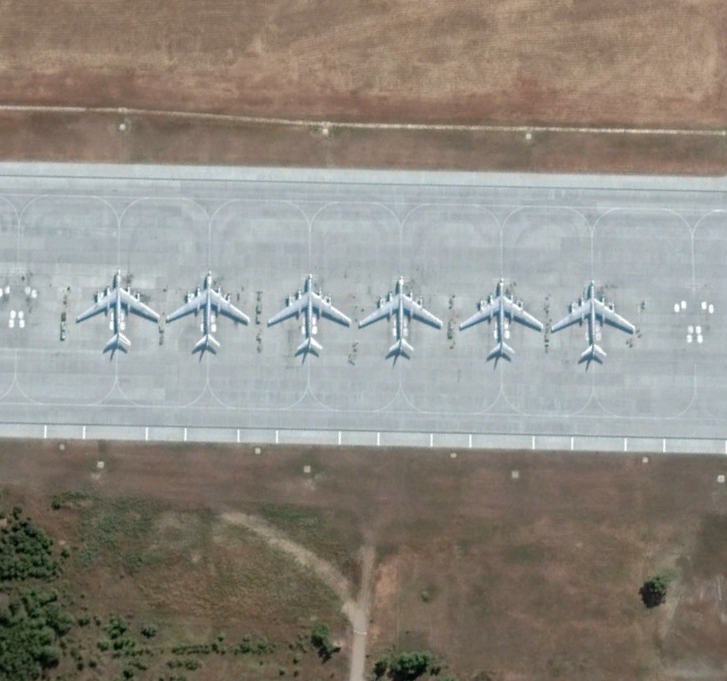A17: (162, 267, 252, 358), (264, 270, 354, 361), (357, 272, 447, 363), (455, 275, 545, 366), (551, 275, 641, 366), (75, 266, 158, 358)
